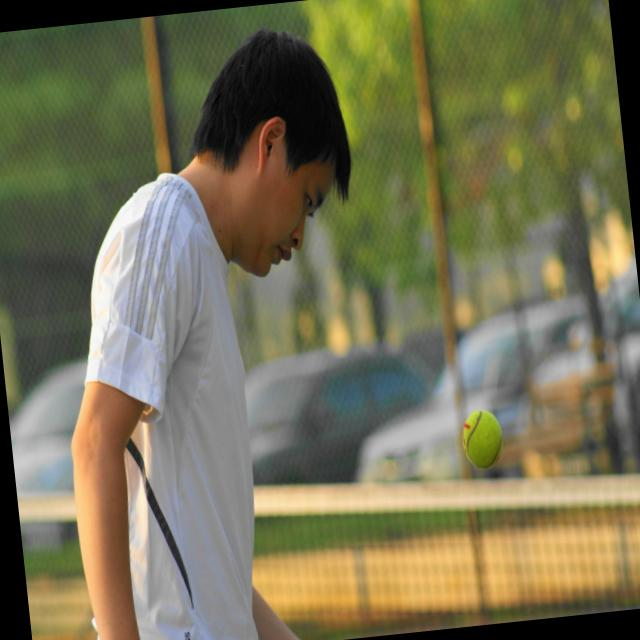Tennis Ball: (458, 402, 504, 472)
